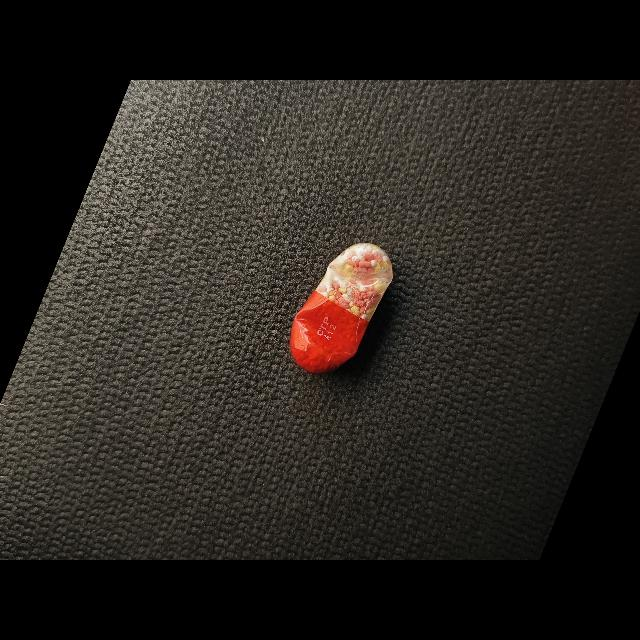Defective Capsule: (290, 243, 393, 374)
